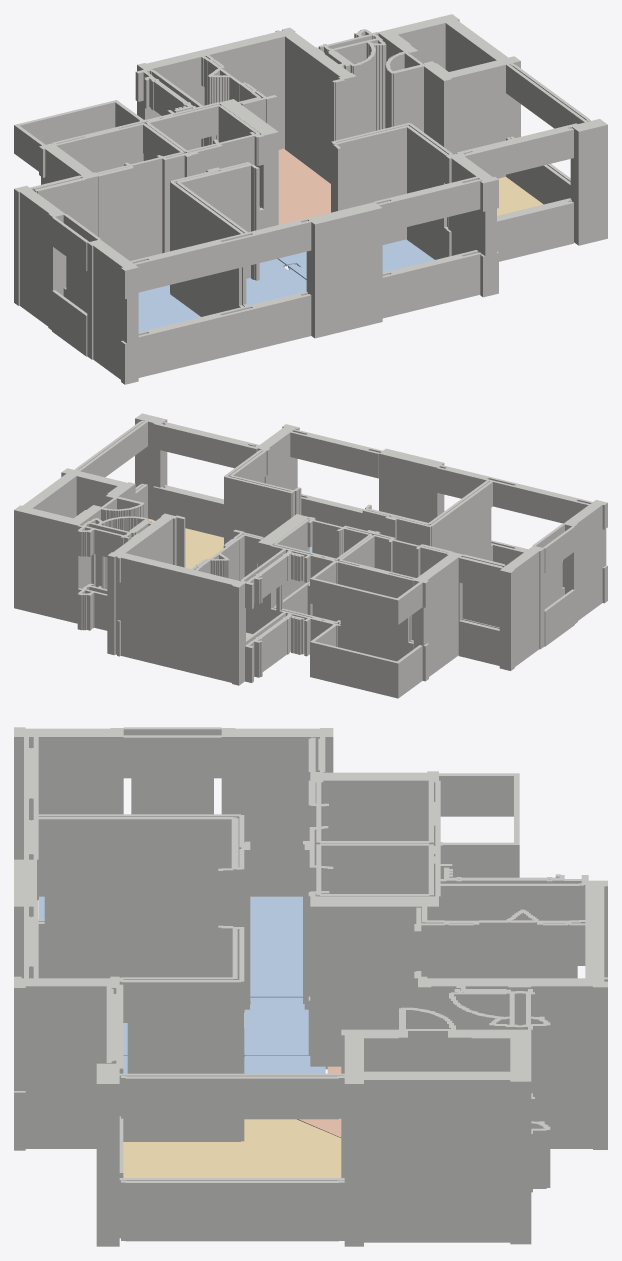
3 renders of one model, top to bottom at view 1: azimuth 30°, elevation 25°; view 2: azimuth 150°, elevation 25°; view 3: azimuth 270°, elevation 25°, orthographic. The views are drawn at different scales.
Parts seen in each view (by area): view 1: walls, room:kitchen:4, room:bedroom:5, room:bedroom:3, room:bedroom:7, room:living:6; view 2: walls, room:living:6; view 3: walls, room:living:6, room:bedroom:3, room:bedroom:5, room:bedroom:7.
Part boxes in pixels (box(x1,y1,x2,y2)): walls: box(14, 14, 607, 384); room:kitchen:4: box(278, 148, 330, 224); room:bedroom:5: box(246, 259, 306, 305); room:bedroom:3: box(138, 285, 200, 331); room:bedroom:7: box(277, 239, 434, 279); room:living:6: box(497, 177, 543, 215); walls: box(14, 413, 607, 698); room:living:6: box(148, 518, 223, 568); walls: box(14, 727, 607, 1246); room:living:6: box(123, 1119, 341, 1177); room:bedroom:3: box(39, 896, 302, 997); room:bedroom:5: box(123, 997, 308, 1056); room:bedroom:7: box(123, 1056, 325, 1073).
Bounding box in the file's own units: 13.16 × 2.8 × 9.26.
